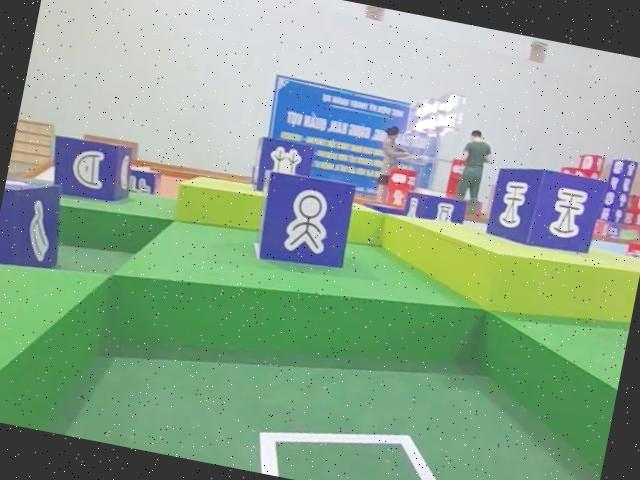R2 Real Blue: (484, 160, 609, 261), (249, 168, 355, 277), (0, 174, 74, 282), (40, 133, 133, 209), (253, 134, 319, 201), (404, 188, 470, 225)
